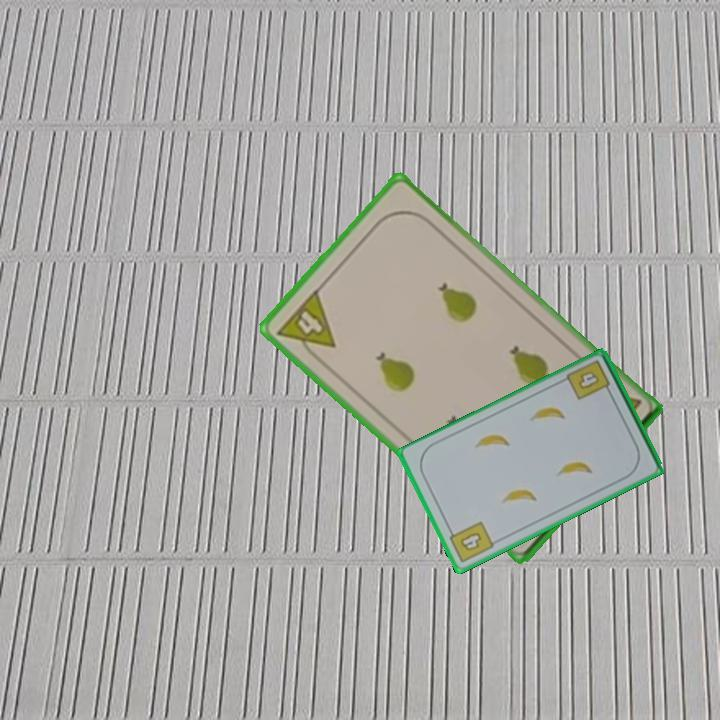4b: (444, 518, 497, 566), (563, 357, 614, 403)
4p: (273, 285, 339, 366)
